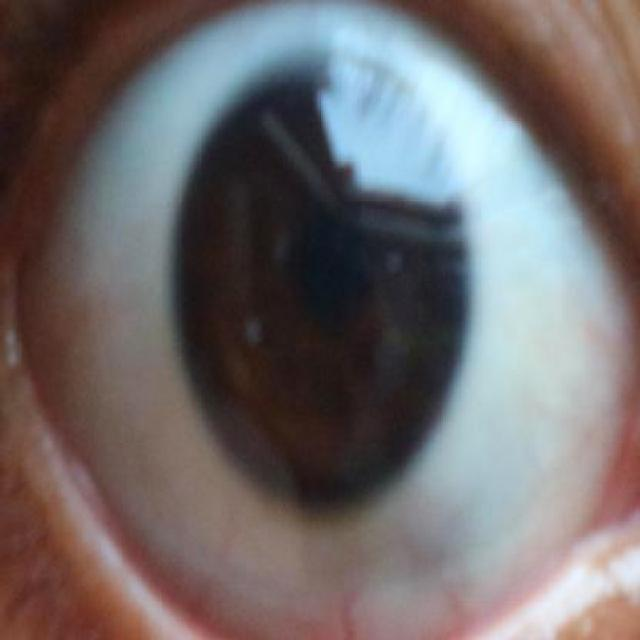Normal: (171, 56, 474, 514)
